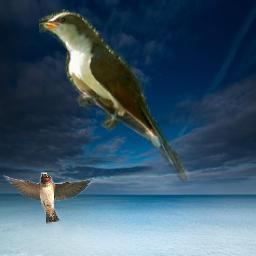Cuckoo: (39, 8, 190, 181)
Swallow: (2, 172, 95, 224)
